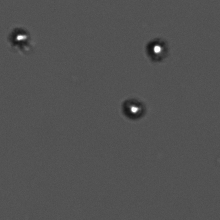Living Cell: (145, 37, 169, 63), (121, 96, 146, 120), (9, 27, 29, 47)
